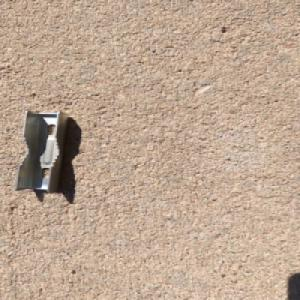ClampPart: (12, 108, 71, 194)
